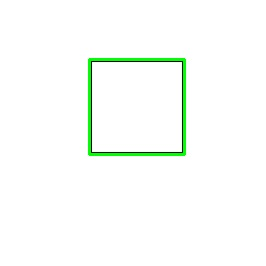line_segment: (88, 58, 186, 156)
